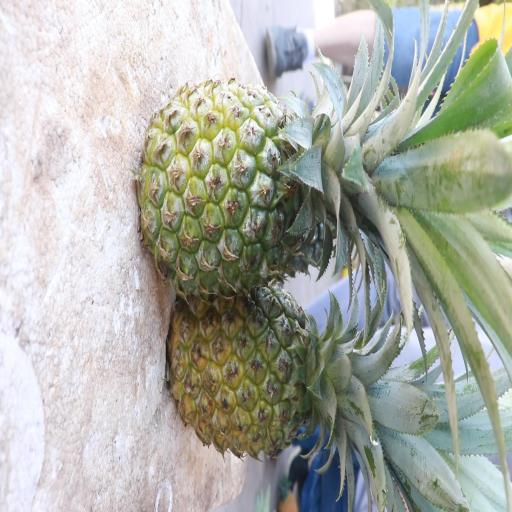------------------------------: (148, 73, 355, 283)
Pineapple - v8 v1: (172, 292, 360, 459)
